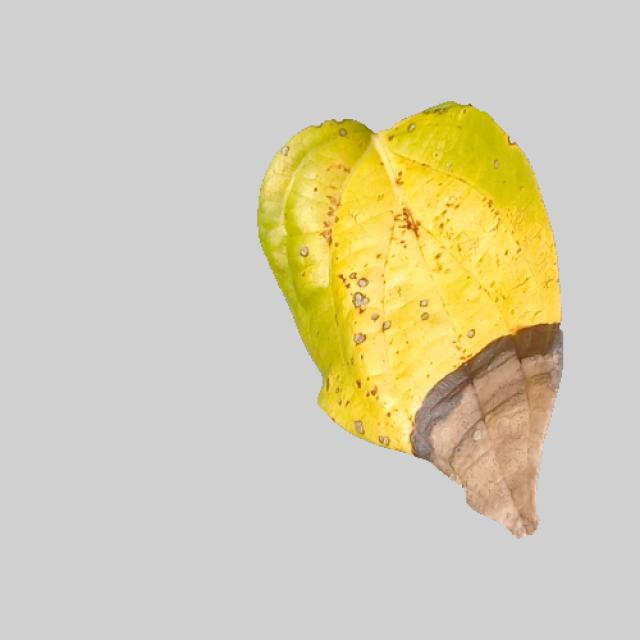leaf-blight: (232, 108, 563, 542)
